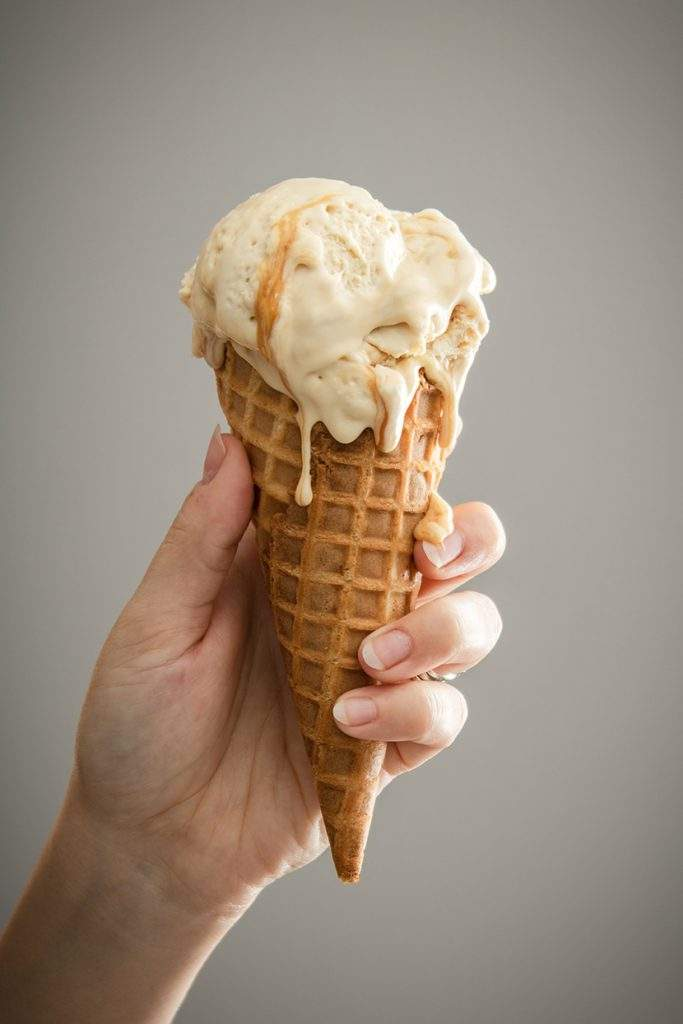no-phone: (74, 176, 515, 907)
